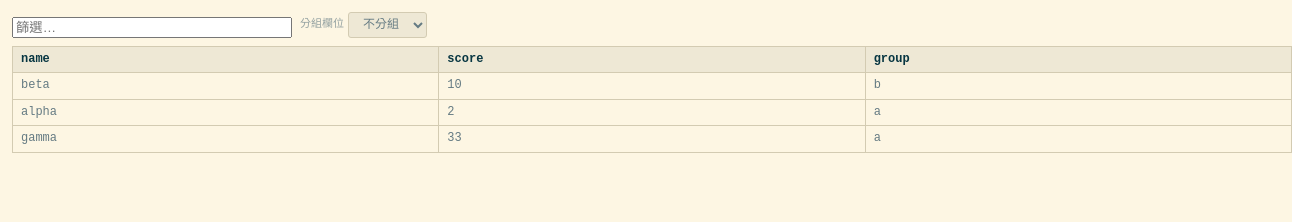
Test: DataTable 分組 › reorders groups when the sort changes
Select "group" in the dropdown labelled "分組欄位": (388, 25) [348,12,427,38]
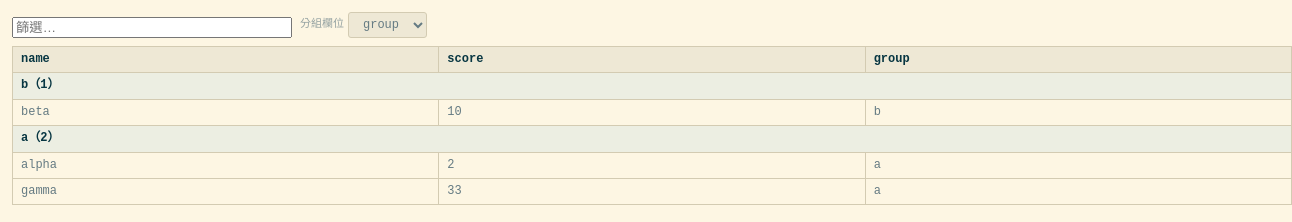
Click the button "group": (892, 60) [874,51,910,68]
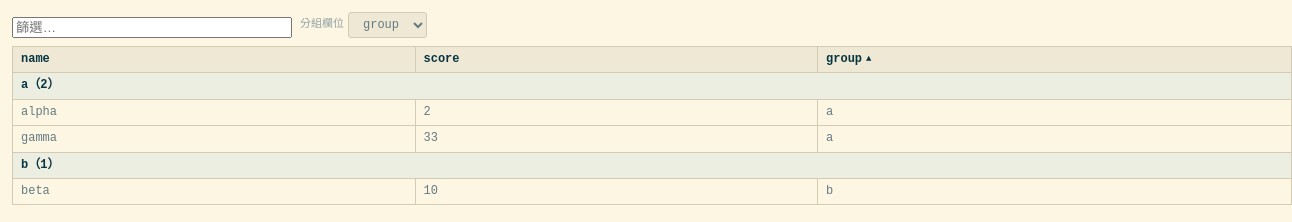
Expected: the elements with class "group-row" read "a（2）", "b（1）", in this order, [12,73,1291,99]; [12,152,1291,178]
